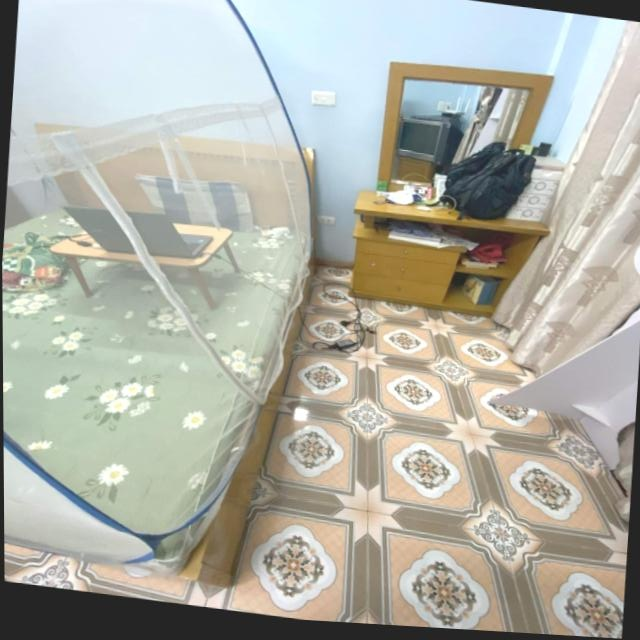outlet: (318, 213, 337, 225)
